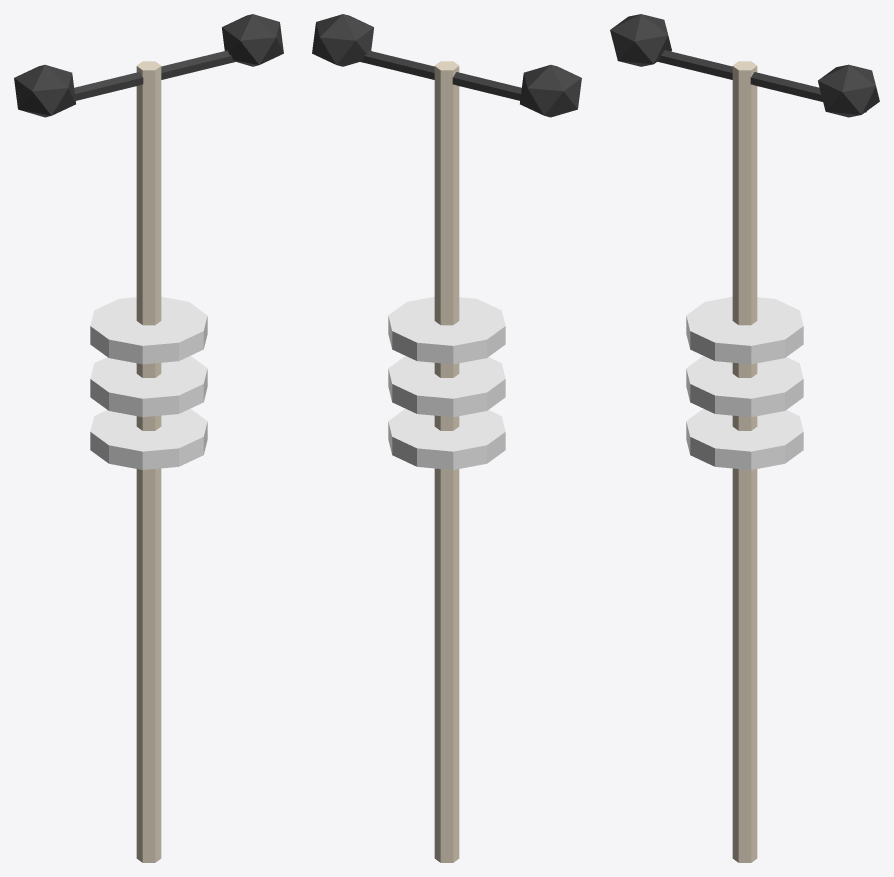
3 renders of one model, left to right at view 1: azimuth 30°, elevation 25°; view 2: azimuth 150°, elevation 25°; view 3: azimuth 330°, elevation 25°, orthographic.
Parts seen in each view (by area): view 1: Mast, Sensor shield.002, Sensor shield.001, Sensor shield, Wind cup, Wind cup.001, Anemometer; view 2: Mast, Sensor shield.002, Sensor shield.001, Sensor shield, Wind cup, Wind cup.001, Anemometer; view 3: Mast, Sensor shield.002, Sensor shield.001, Sensor shield, Wind cup.001, Wind cup, Anemometer.
Boxes of the visible parts, box(x1,y1,x2,y2) form: Mast: box(136, 61, 161, 862); Sensor shield.002: box(90, 296, 207, 364); Sensor shield.001: box(90, 356, 207, 417); Sensor shield: box(90, 408, 207, 469); Wind cup: box(14, 64, 75, 117); Wind cup.001: box(222, 14, 283, 66); Anemometer: box(74, 50, 236, 100); Mast: box(434, 61, 459, 862); Sensor shield.002: box(388, 296, 505, 364); Sensor shield.001: box(388, 356, 505, 417); Sensor shield: box(388, 408, 505, 469); Wind cup: box(520, 64, 581, 117); Wind cup.001: box(312, 14, 373, 66); Anemometer: box(359, 50, 521, 100); Mast: box(732, 61, 757, 862); Sensor shield.002: box(686, 296, 803, 364); Sensor shield.001: box(686, 356, 803, 417); Sensor shield: box(686, 408, 803, 469); Wind cup.001: box(818, 64, 879, 117); Wind cup: box(610, 14, 671, 66); Anemometer: box(657, 50, 866, 112).
Bounding box in the file's own units: 36.31 × 108 × 14.4.
